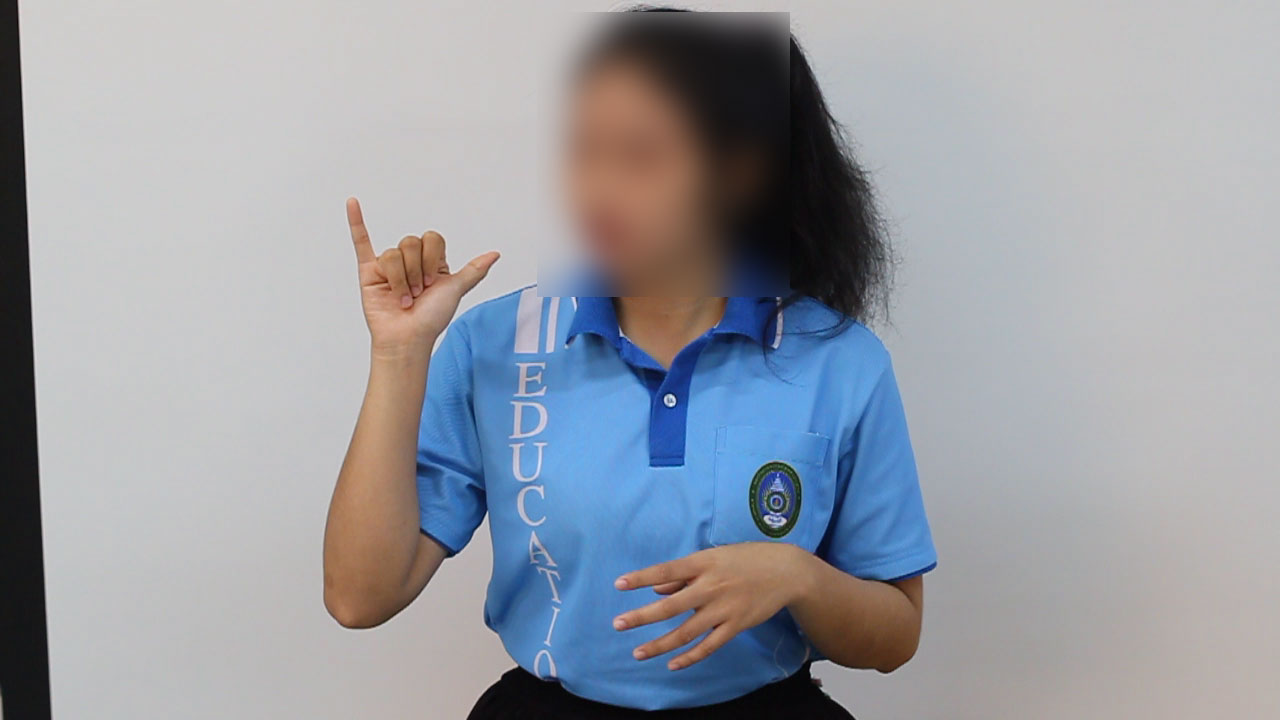yor: (330, 188, 511, 356)
